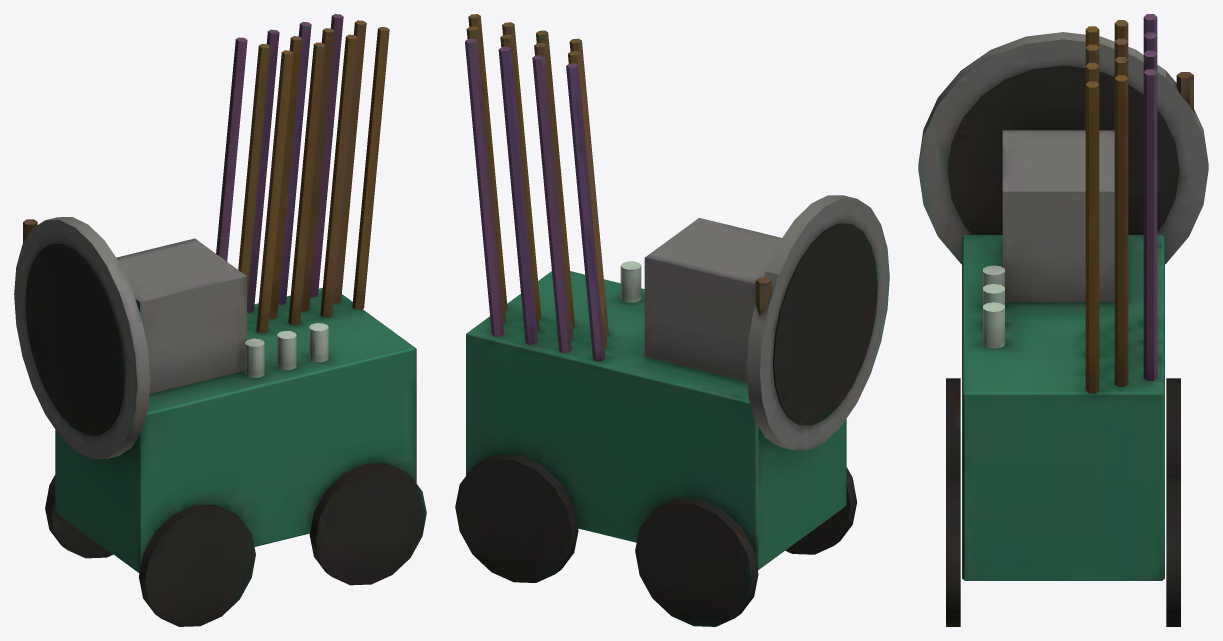
Rendered from cane_press.glb.
The picture shows the model from 3 angles, left to right: view 1: azimuth 30°, elevation 25°; view 2: azimuth 150°, elevation 25°; view 3: azimuth 270°, elevation 25°; orthographic projection. The views are drawn at different scales.
Parts seen in each view (by area): view 1: body; view 2: body; view 3: body.
Part boxes in pixels (x1=…): body: x1=14, y1=14, x2=426, y2=626; body: x1=455, y1=14, x2=889, y2=626; body: x1=918, y1=14, x2=1208, y2=626.
Bounding box in the file's own units: 1.53 × 2.2 × 1.
Materials: 1 (1 with a texture image).
